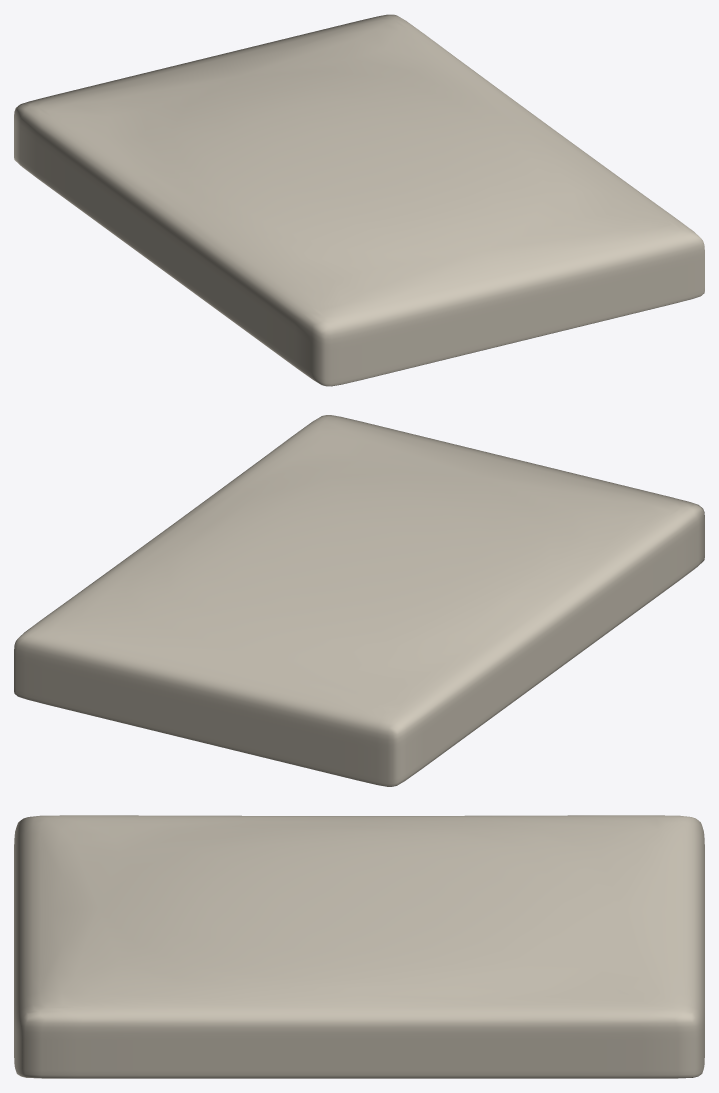
File: shoeRack_CADEIRA_JANTAR_ESTOFADA___TECIDO_0.obj
The picture shows the model from 3 angles, top to bottom: view 1: azimuth 30°, elevation 25°; view 2: azimuth 150°, elevation 25°; view 3: azimuth 270°, elevation 25°; orthographic projection. The views are drawn at different scales.
Parts seen in each view (by area): view 1: shoeRack_CADEIRA_JANTAR_ESTOFADA___TECIDO_0; view 2: shoeRack_CADEIRA_JANTAR_ESTOFADA___TECIDO_0; view 3: shoeRack_CADEIRA_JANTAR_ESTOFADA___TECIDO_0.
Boxes of the visible parts, x1,y1,x2,y2 form: shoeRack_CADEIRA_JANTAR_ESTOFADA___TECIDO_0: (14,14,704,386); shoeRack_CADEIRA_JANTAR_ESTOFADA___TECIDO_0: (14,415,704,786); shoeRack_CADEIRA_JANTAR_ESTOFADA___TECIDO_0: (14,815,704,1078).
Size of the model in its own units: 0.3662 by 0.0626 by 0.5191.
